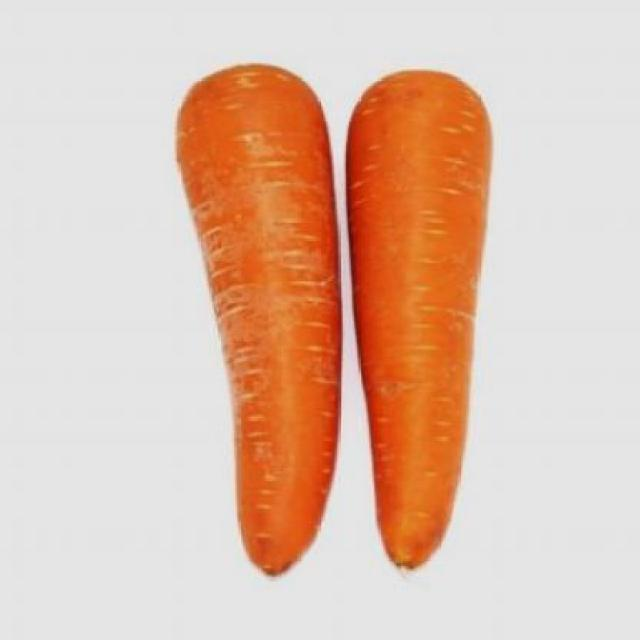carrot: (172, 60, 343, 583), (350, 61, 496, 582)
